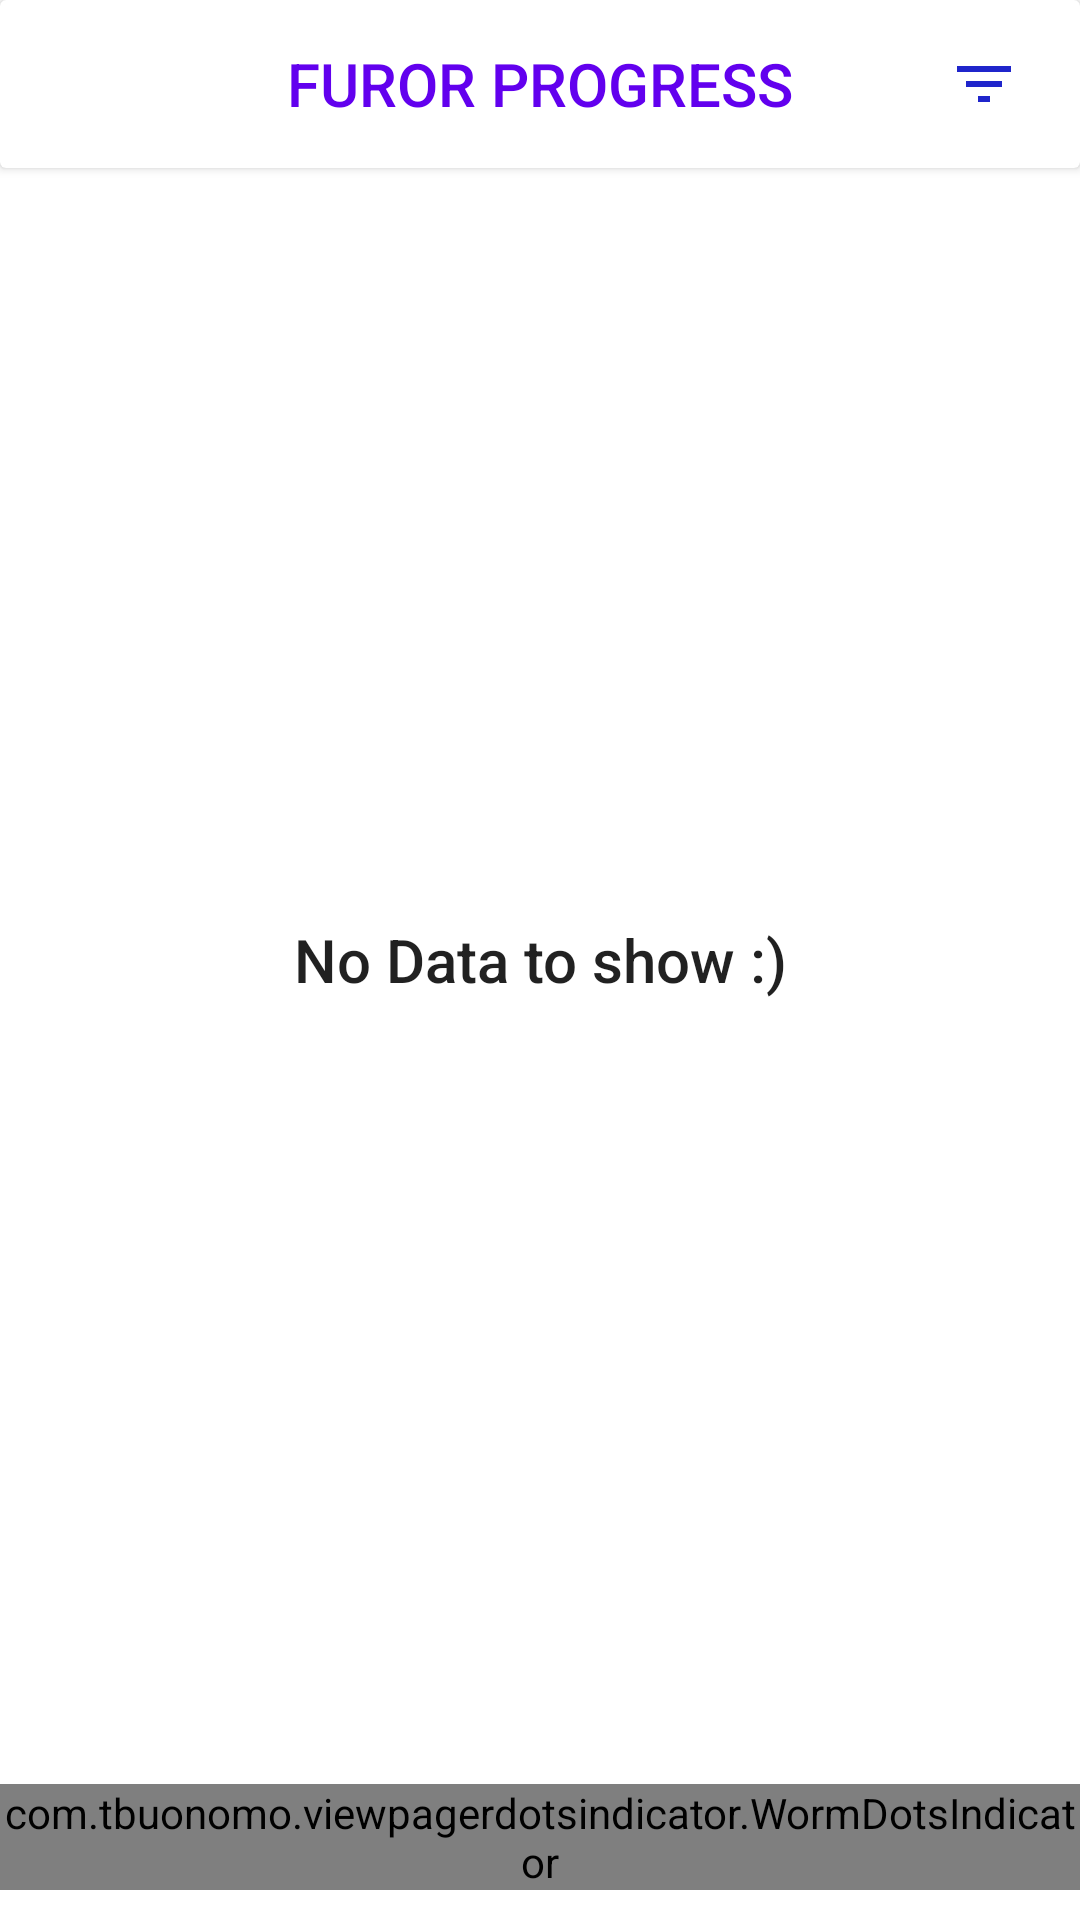

Icon bounding boxes for this 1080*1920 phone screenshot, format (x1, y1, x2, y2):
filter list: (957, 66, 1011, 102)
